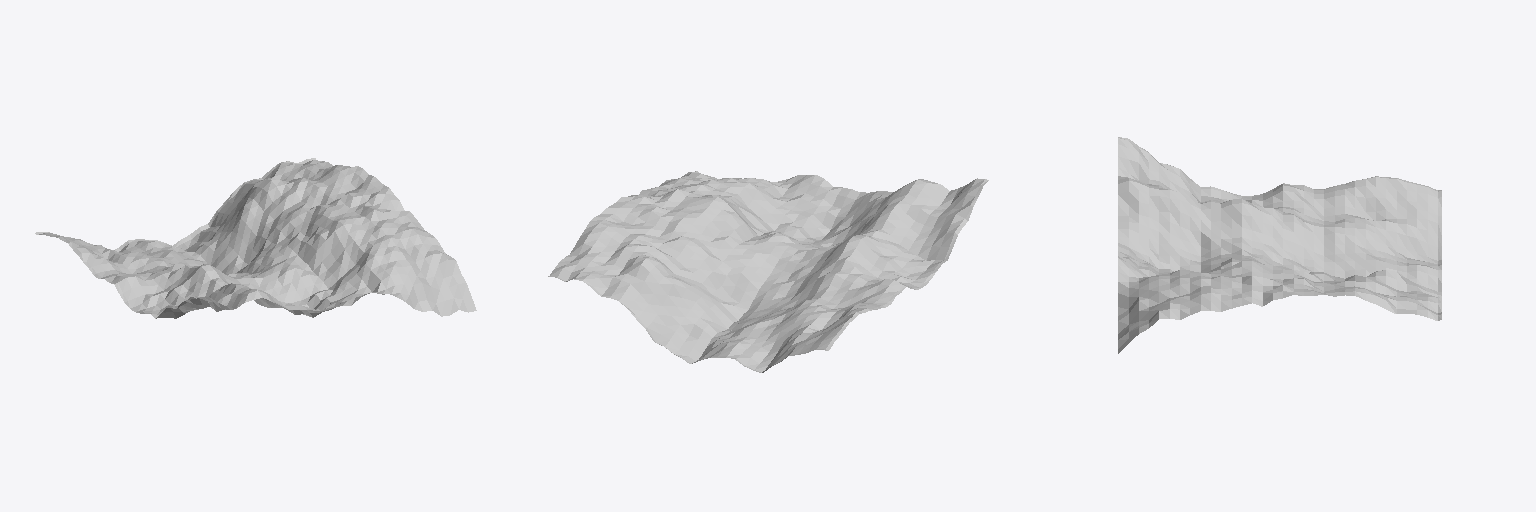
Rendered from heightmap.018.obj.
3 views of the same model, side by side, from view 1: azimuth 30°, elevation 25°; view 2: azimuth 150°, elevation 25°; view 3: azimuth 270°, elevation 25° (orthographic).
Visible parts, largest first — view 1: heightmap.018_Plane.018; view 2: heightmap.018_Plane.018; view 3: heightmap.018_Plane.018.
Part boxes in pixels (x1,y1,x2,y2): heightmap.018_Plane.018: (35,158,476,318); heightmap.018_Plane.018: (548,171,988,372); heightmap.018_Plane.018: (1118,137,1441,353).
Size of the model in its own units: 32 by 11.17 by 32.